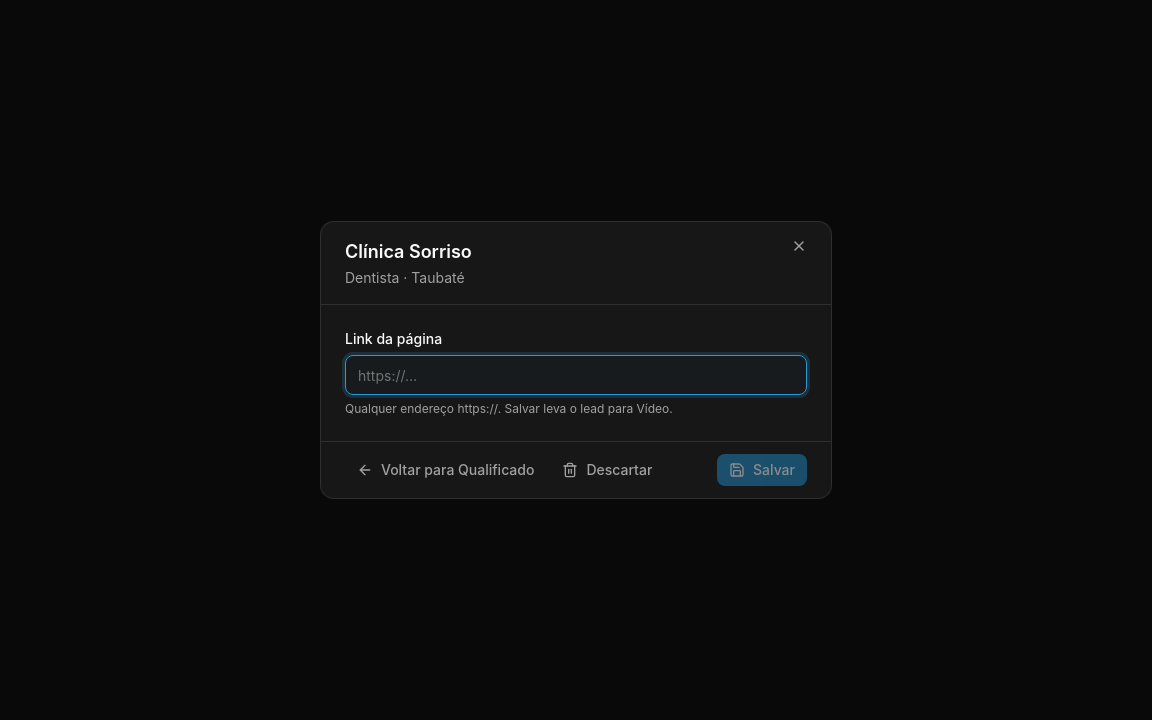
Scenario: aviso de lead que já mudou de etapa › outros erros ficam no modal
The width and height of the screenshot is (1152, 720).
Type "xx" into the field with placeholder "https://…". click: (576, 375)
box: [345, 355, 807, 395]
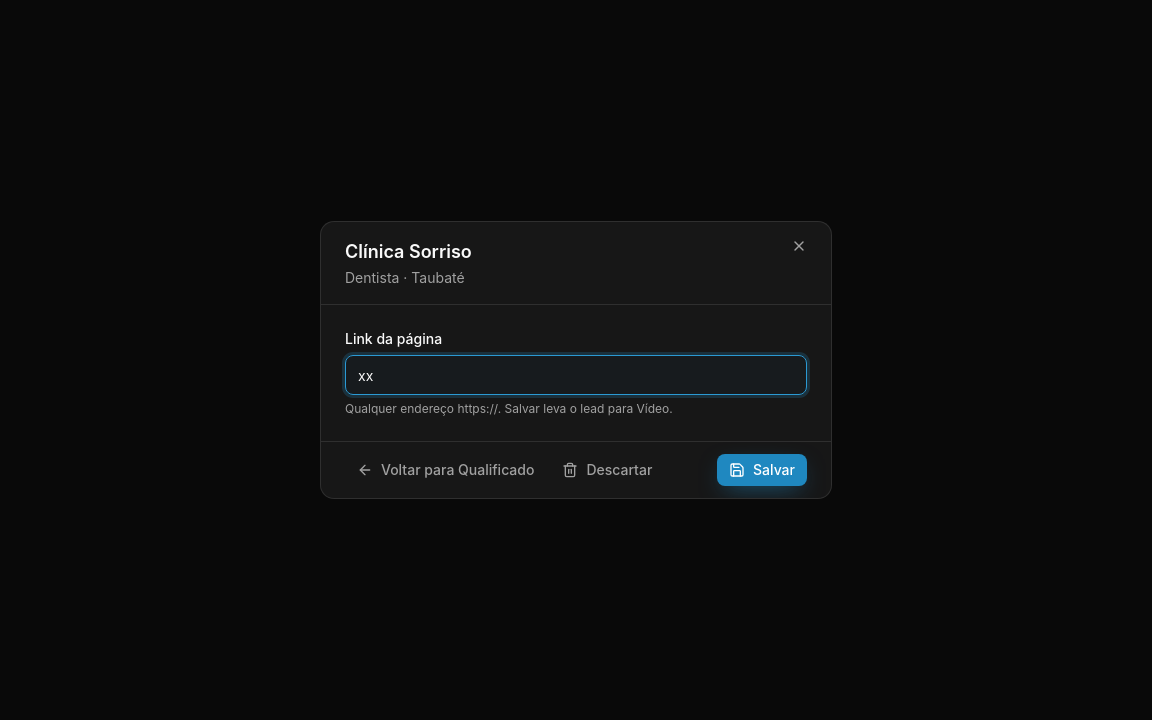
Click the button "Salvar". click: (762, 470)
box: [717, 454, 807, 486]
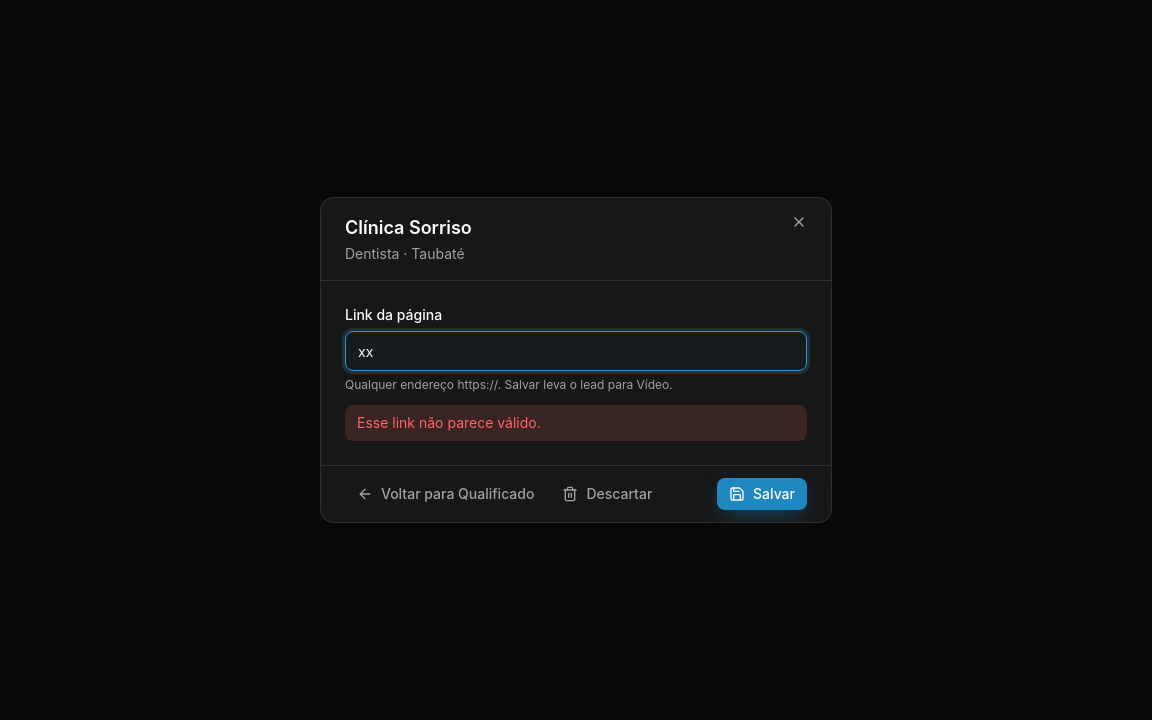
Expected: the text "Esse link não parece válido." is shown, [345, 405, 807, 441]
